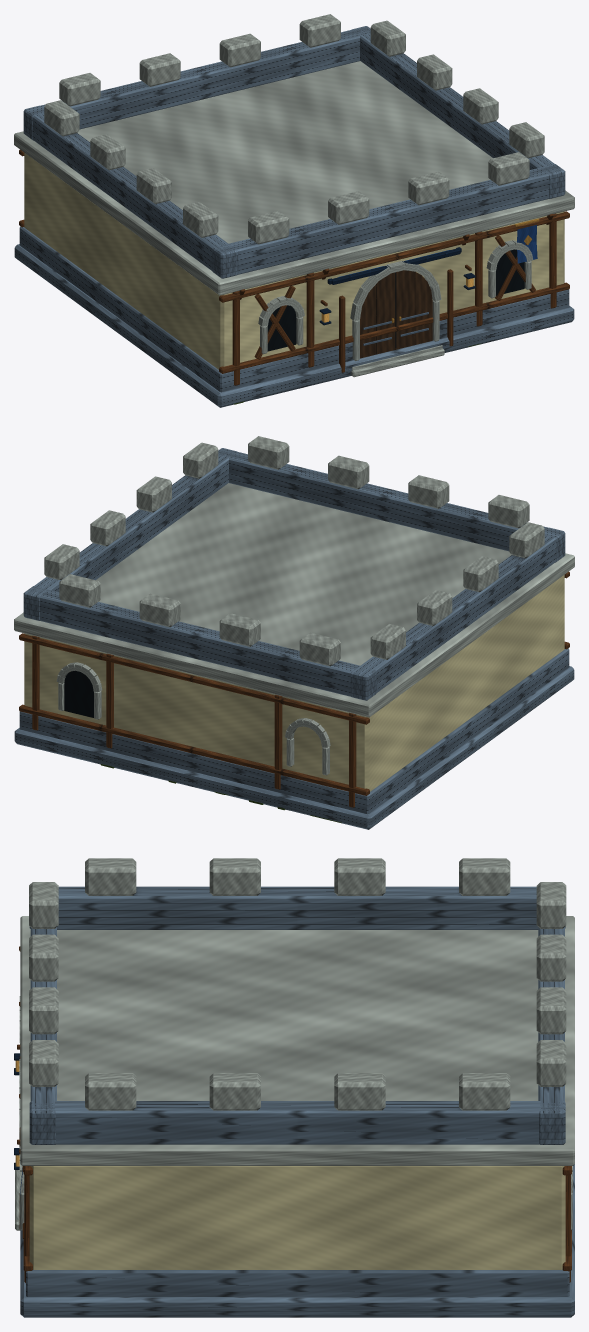
File: barracks.glb
3 renders of one model, top to bottom at view 1: azimuth 30°, elevation 25°; view 2: azimuth 150°, elevation 25°; view 3: azimuth 270°, elevation 25°, orthographic. The views are drawn at different scales.
Parts seen in each view (by area): view 1: Architecture, Banners; view 2: Architecture; view 3: Architecture.
Part boxes in pixels (x1,y1,x2,y2): Architecture: [14, 14, 574, 407]; Banners: [517, 225, 537, 263]; Architecture: [14, 436, 574, 829]; Architecture: [14, 858, 574, 1317].
Bounding box in the file's own units: 17.8 × 8.22 × 18.01.
1 material, 1 textured.
